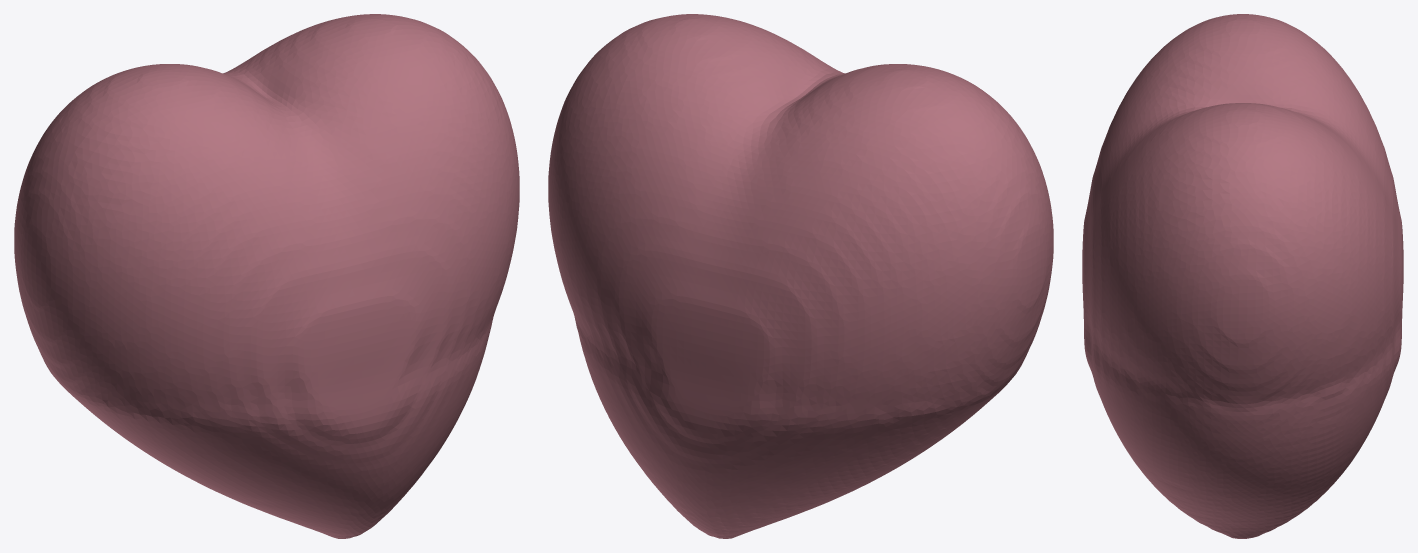
The model's file is heart.glb.
3 views of the same model, side by side, from view 1: azimuth 30°, elevation 25°; view 2: azimuth 150°, elevation 25°; view 3: azimuth 270°, elevation 25° (orthographic). The views are drawn at different scales.
Parts seen in each view (by area): view 1: geometry_0; view 2: geometry_0; view 3: geometry_0.
Boxes of the visible parts, left/top/right/bottom form: geometry_0: left=14, top=14, right=519, bottom=538; geometry_0: left=548, top=14, right=1053, bottom=538; geometry_0: left=1082, top=14, right=1403, bottom=538.
Bounding box in the file's own units: 2.32 × 2.37 × 1.57.
